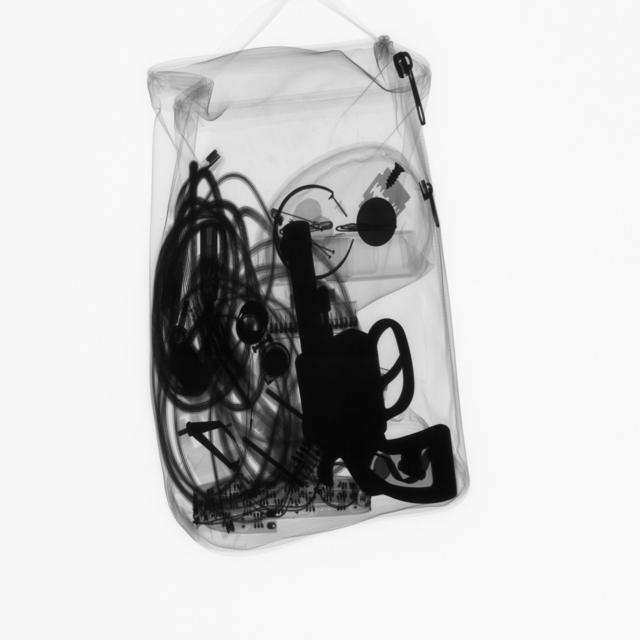gun: (275, 218, 463, 504)
razor: (364, 167, 414, 220)
